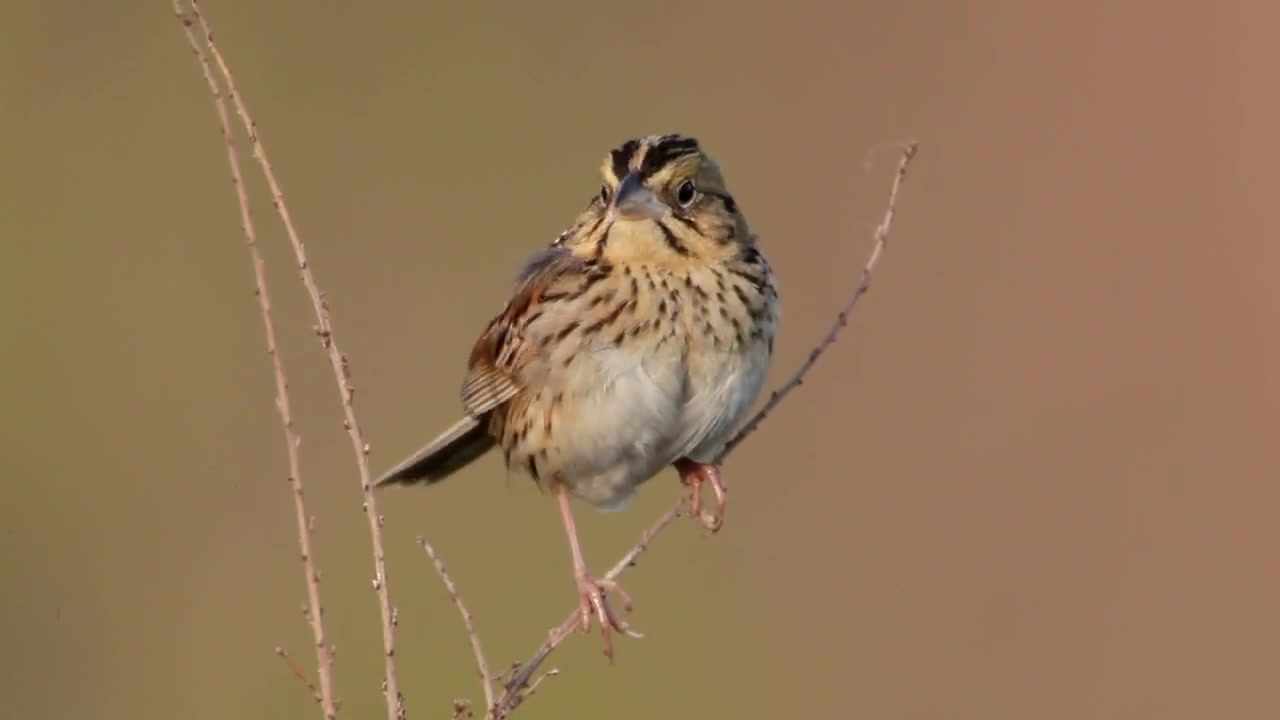bird: (372, 133, 784, 664)
